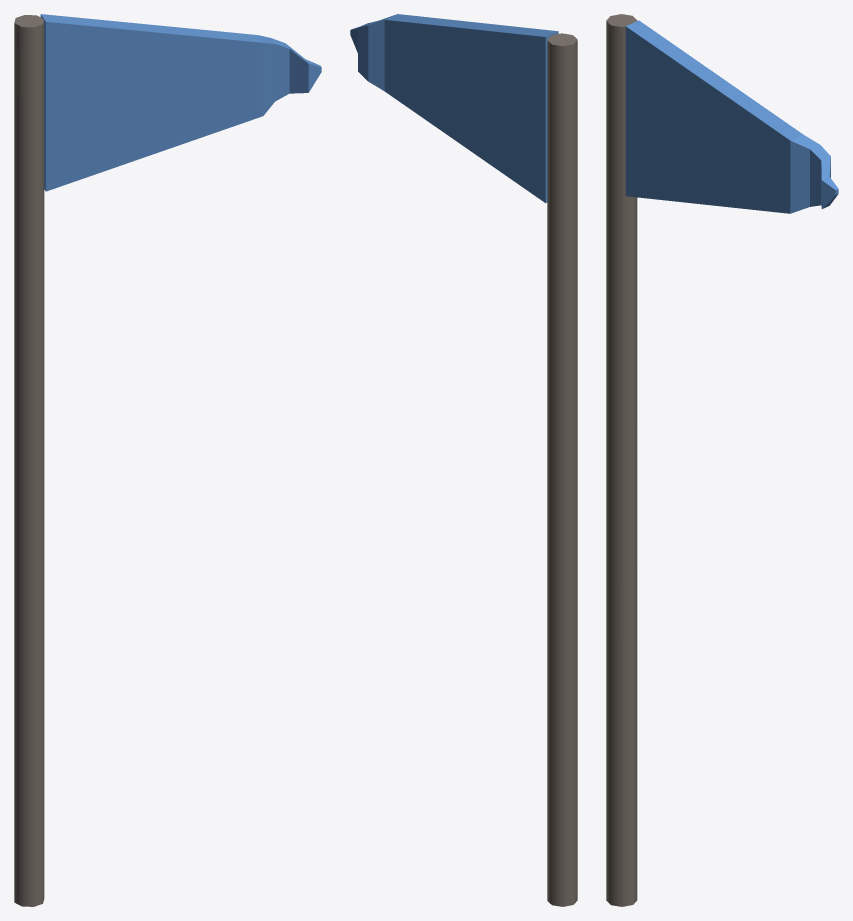
The model's file is flag1.fbx.
The picture shows the model from 3 angles, left to right: view 1: azimuth 30°, elevation 25°; view 2: azimuth 150°, elevation 25°; view 3: azimuth 330°, elevation 25°; orthographic projection. The views are drawn at different scales.
Parts seen in each view (by area): view 1: polySurface478; view 2: polySurface478; view 3: polySurface478.
Boxes of the visible parts, x1,y1,x2,y2 form: polySurface478: (14,14,321,906); polySurface478: (350,14,577,906); polySurface478: (606,14,838,906).
Bounding box in the file's own units: 0.387 × 1.22 × 0.1188.
